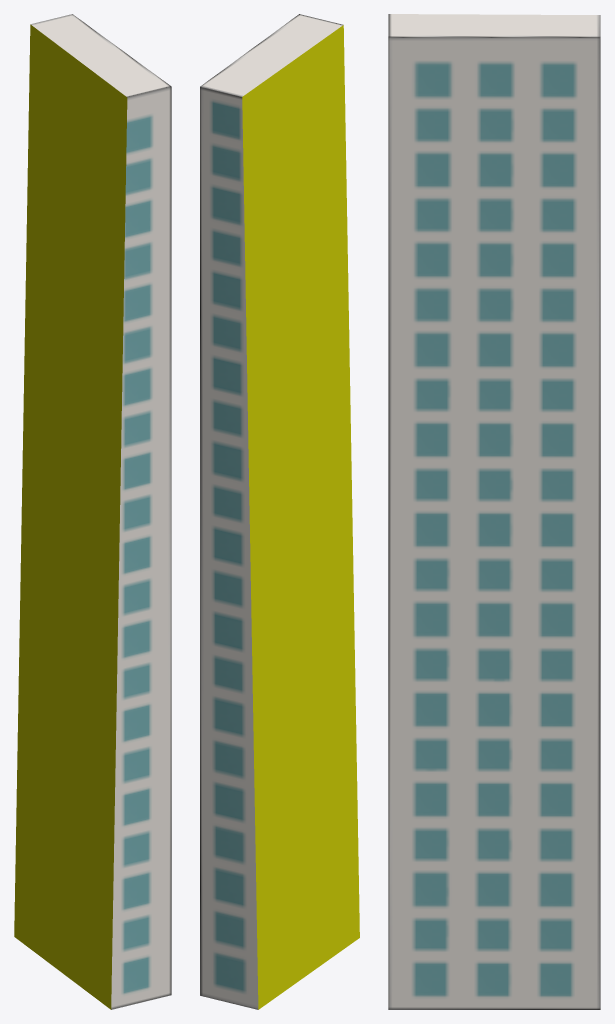
File: paShard2.fbx
The picture shows the model from 3 angles, left to right: view 1: azimuth 30°, elevation 25°; view 2: azimuth 150°, elevation 25°; view 3: azimuth 270°, elevation 25°; orthographic projection. The views are drawn at different scales.
Visible parts, largest first — view 1: shard15; view 2: shard15; view 3: shard15.
Part boxes in pixels (x1,y1,x2,y2): shard15: (14, 14, 171, 1009); shard15: (200, 14, 359, 1009); shard15: (388, 14, 600, 1009).
Bounding box in the file's own units: 0.0323 × 0.463 × 0.0917.
Materials: 2 (1 with a texture image).
